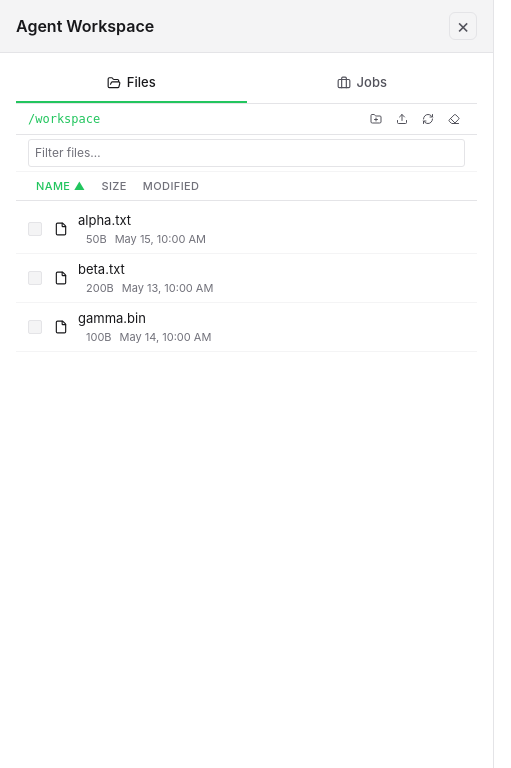
Test: FileSystemDrawer Stage D: selection persistence › selection survives a filter change (hidden entries stay selected)
Expected: the text "alpha.txt" is shown, [78,212,131,228]
Click the checkbox named "Select alpha.txt": (35, 229) [28,222,42,236]
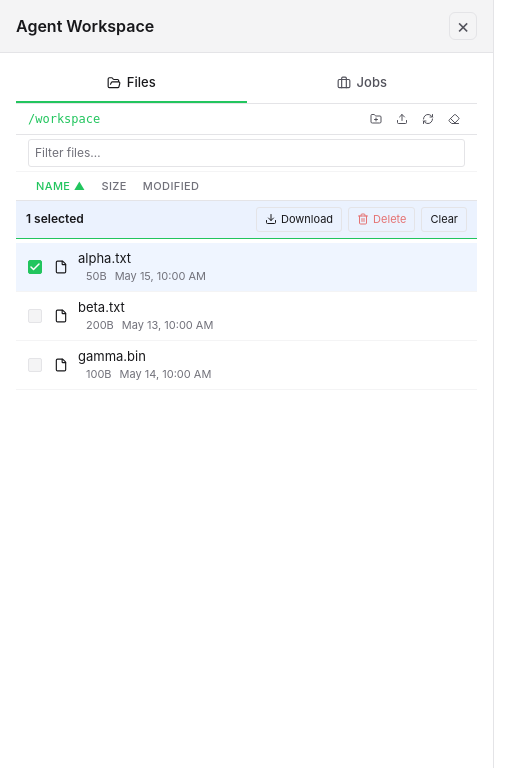
Click the checkbox named "Select beta.txt": (35, 316) [28,308,42,322]
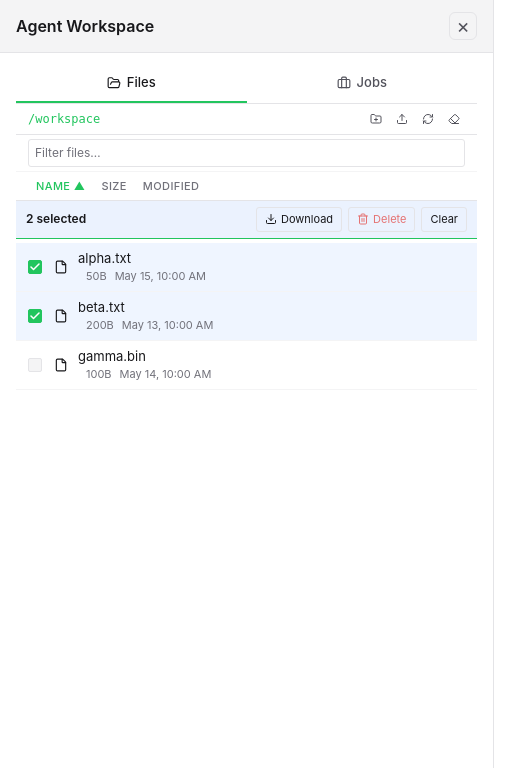
Now the text "2 selected" is shown, box [26,211,86,226]
# Filter to hide beta.txt
In the field with placeholder "Filter files…": (246, 152) [28,138,465,166], type "alpha"
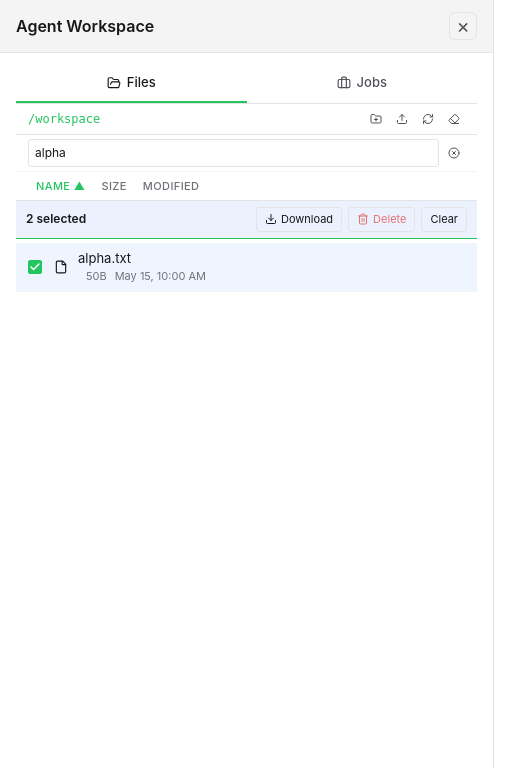
Now the text "2 selected" is shown, box [26,211,86,226]
Now the text "beta.txt" is gone
